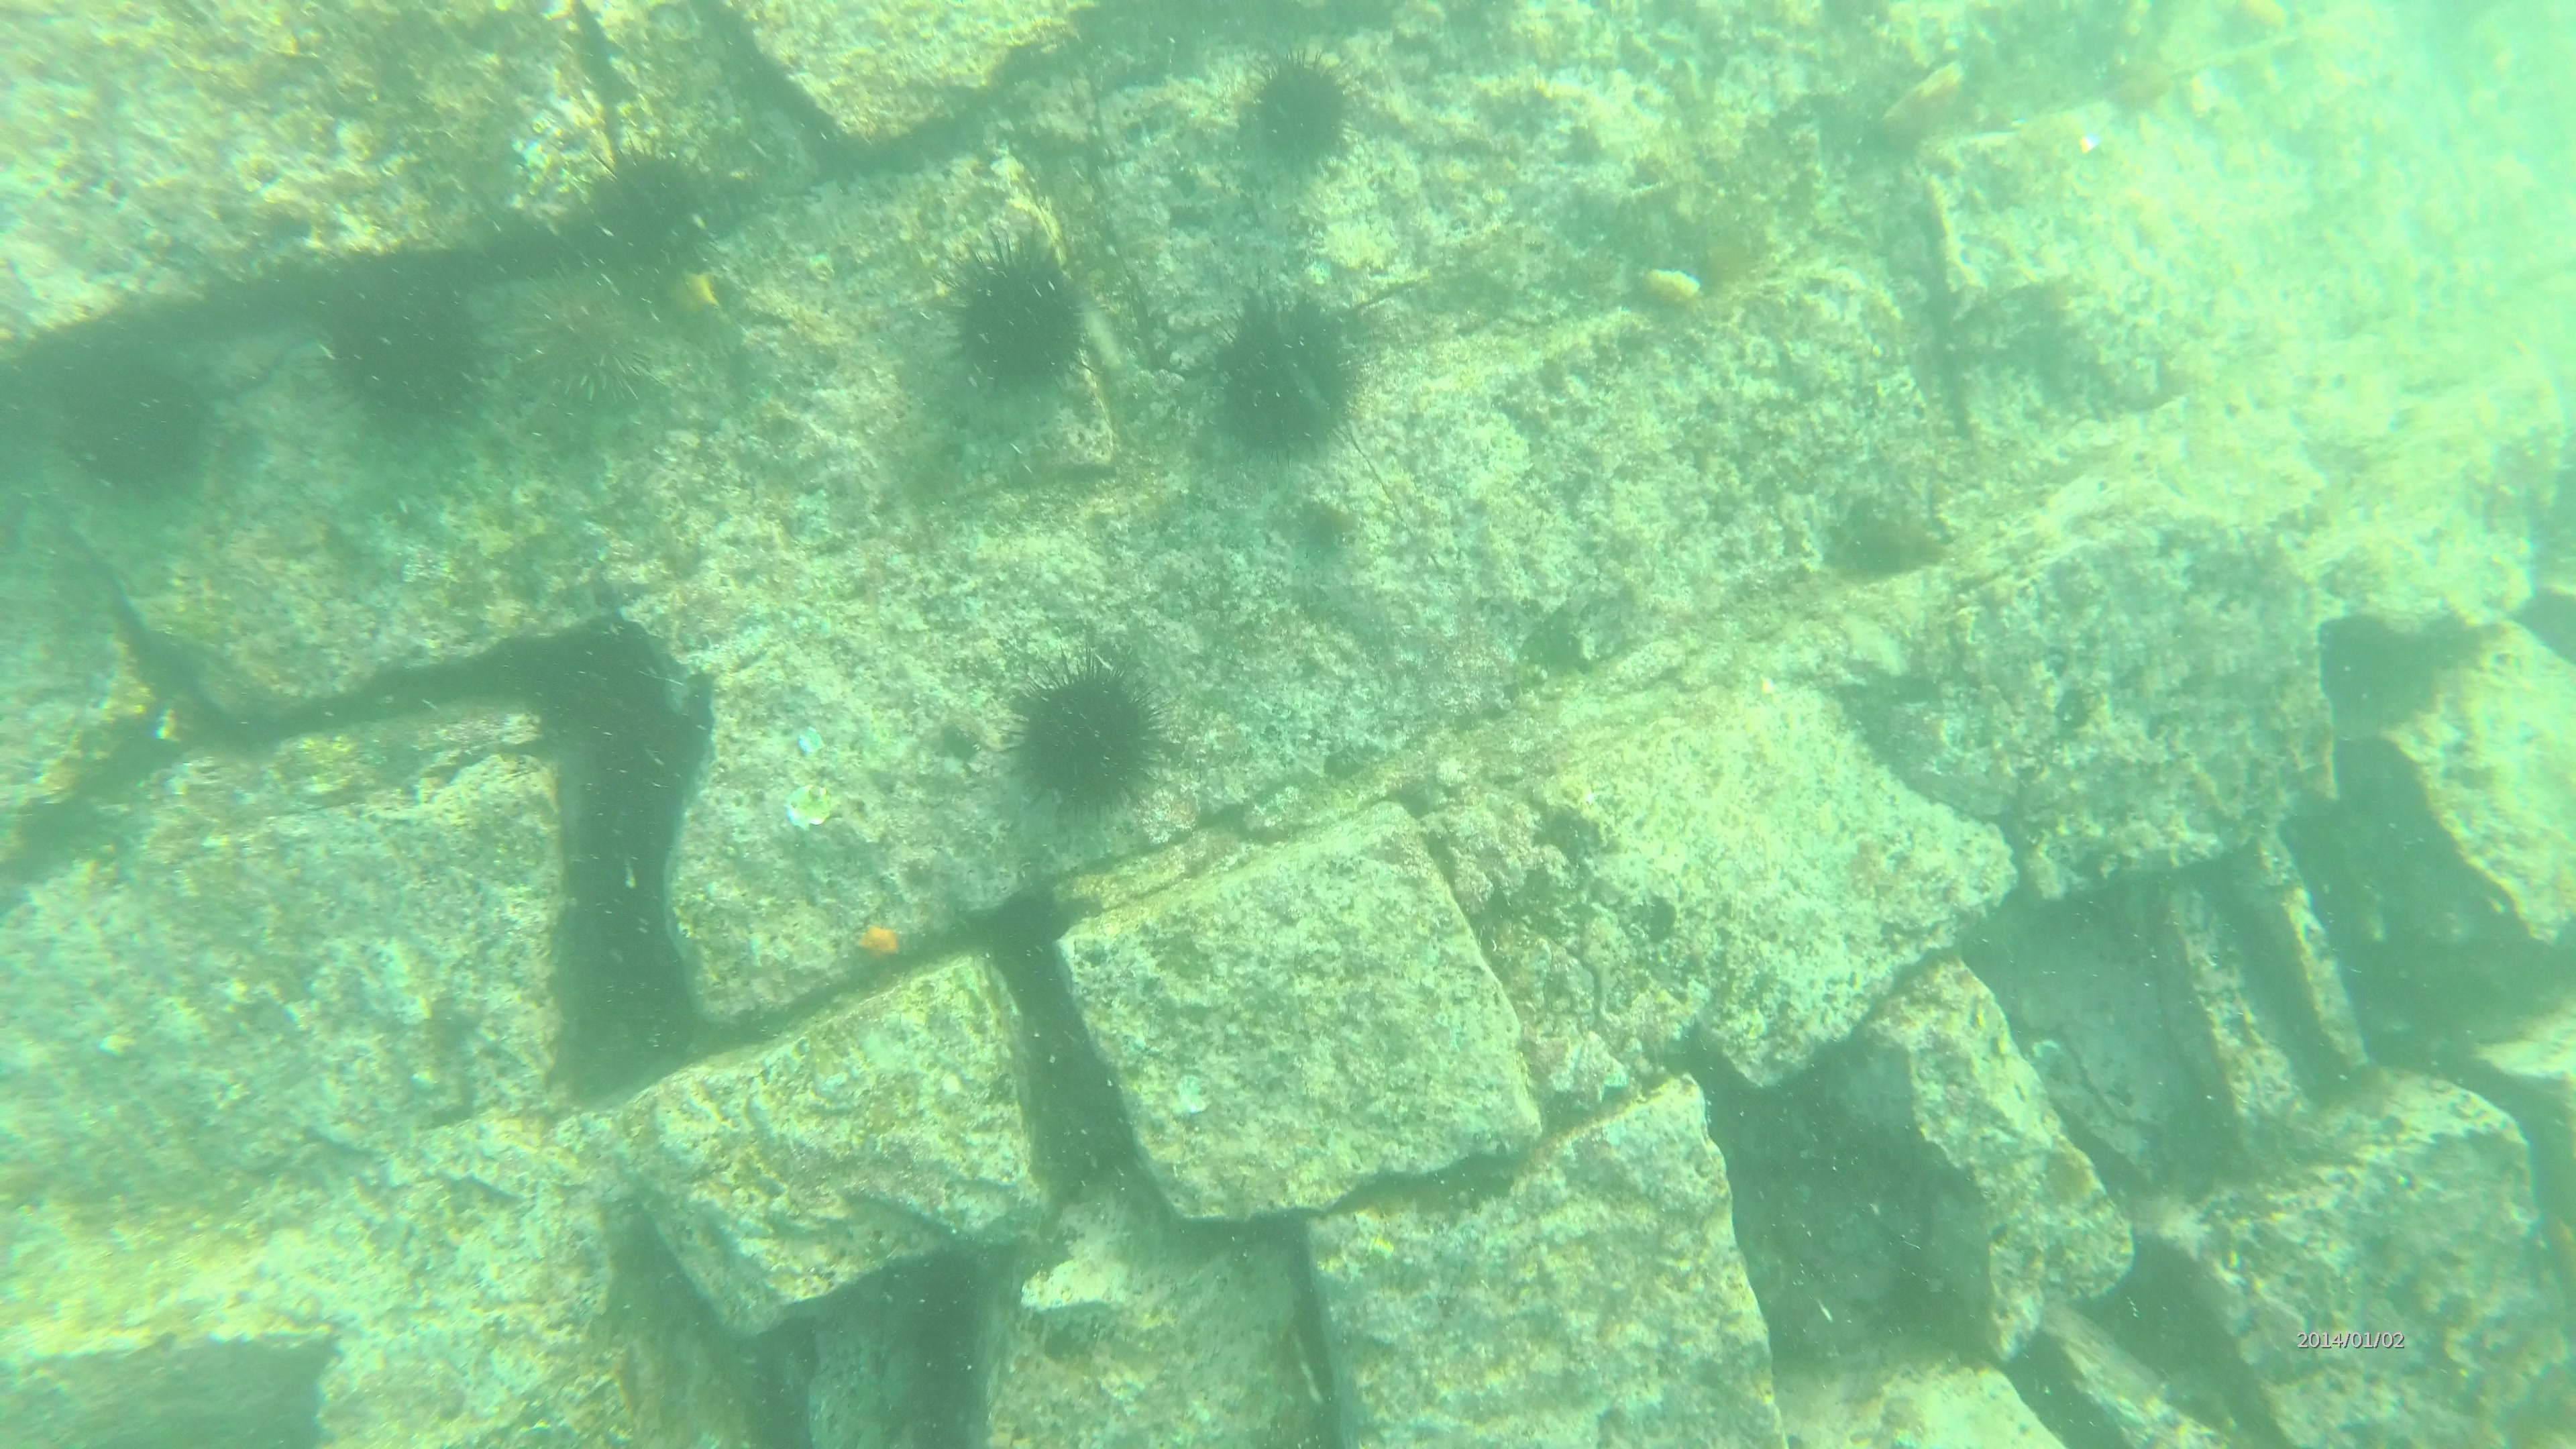echinus: (313, 248, 487, 428), (35, 336, 226, 497), (1005, 648, 1178, 823), (1210, 280, 1376, 458), (931, 230, 1099, 391), (520, 272, 672, 426), (571, 140, 708, 278), (1246, 48, 1369, 173)
starfish: (847, 918, 908, 971)
